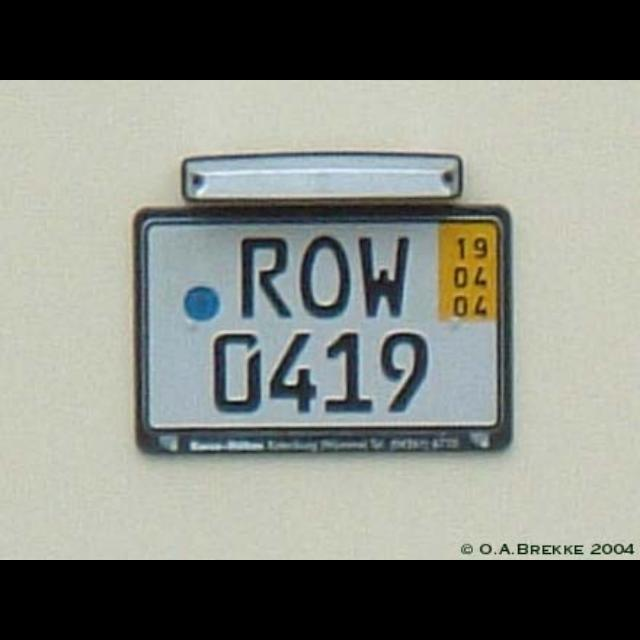d_license_plate: (140, 215, 500, 427)
